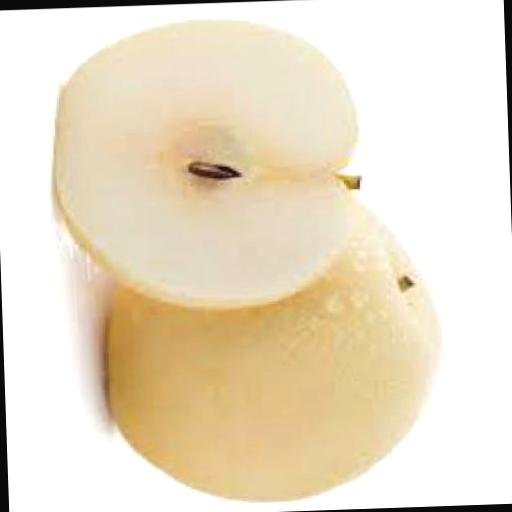biodegradable: (98, 187, 452, 504), (50, 10, 372, 310)
